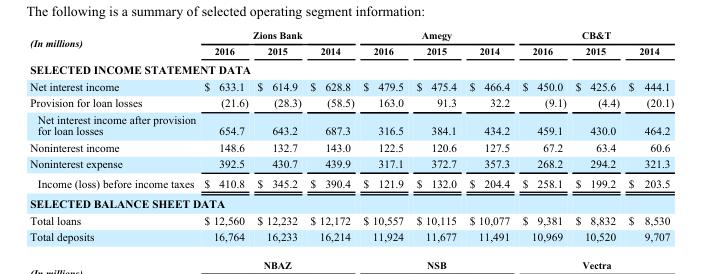table: (29, 29, 673, 242)
table column: (29, 29, 199, 242), (515, 29, 570, 242), (199, 29, 252, 242), (252, 29, 305, 242), (305, 29, 358, 242), (409, 29, 462, 242), (462, 29, 515, 242), (570, 29, 623, 242), (358, 29, 409, 242), (623, 29, 673, 242)
table column header: (29, 29, 673, 59)
table projected row header: (29, 59, 673, 77), (29, 193, 673, 211)
table row: (29, 110, 673, 138), (29, 173, 673, 193), (29, 154, 673, 173), (29, 59, 673, 77), (29, 193, 673, 211), (29, 42, 673, 59), (29, 77, 673, 94), (29, 211, 673, 228), (29, 94, 673, 110), (29, 138, 673, 154), (29, 228, 673, 242), (29, 29, 673, 42)
table spanning cell: (29, 29, 199, 59), (199, 29, 358, 42), (515, 29, 673, 42), (358, 29, 515, 42)
